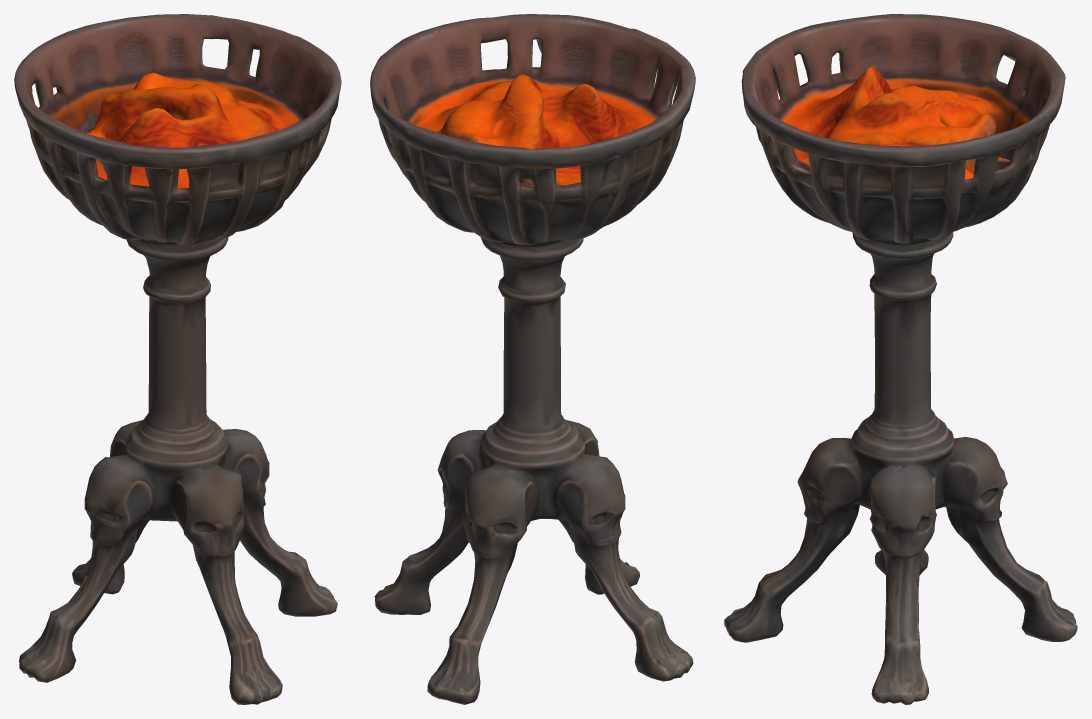
File: iron_brazier_tall.glb
3 renders of one model, left to right at view 1: azimuth 30°, elevation 25°; view 2: azimuth 150°, elevation 25°; view 3: azimuth 270°, elevation 25°, orthographic.
Size of the model in its own units: 1.16 by 2 by 1.16.
1 material, 1 textured.
